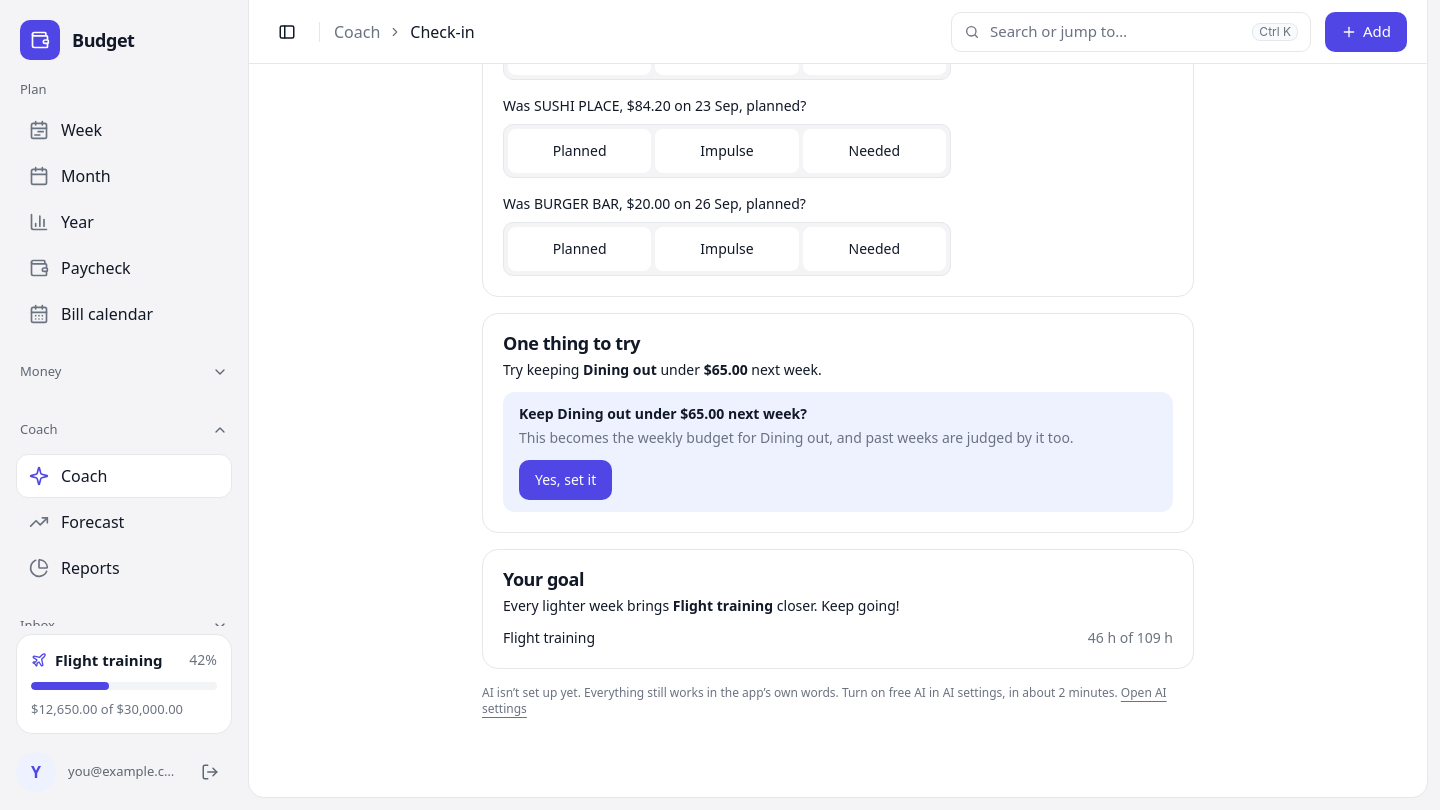
Test: the Sunday check-in › says so in one line when the weekly budget is not saved
This screenshot has width=1440, height=810.
(page scrolled)
Click the button "Yes, set it" at (566, 480), box [519, 460, 612, 500]
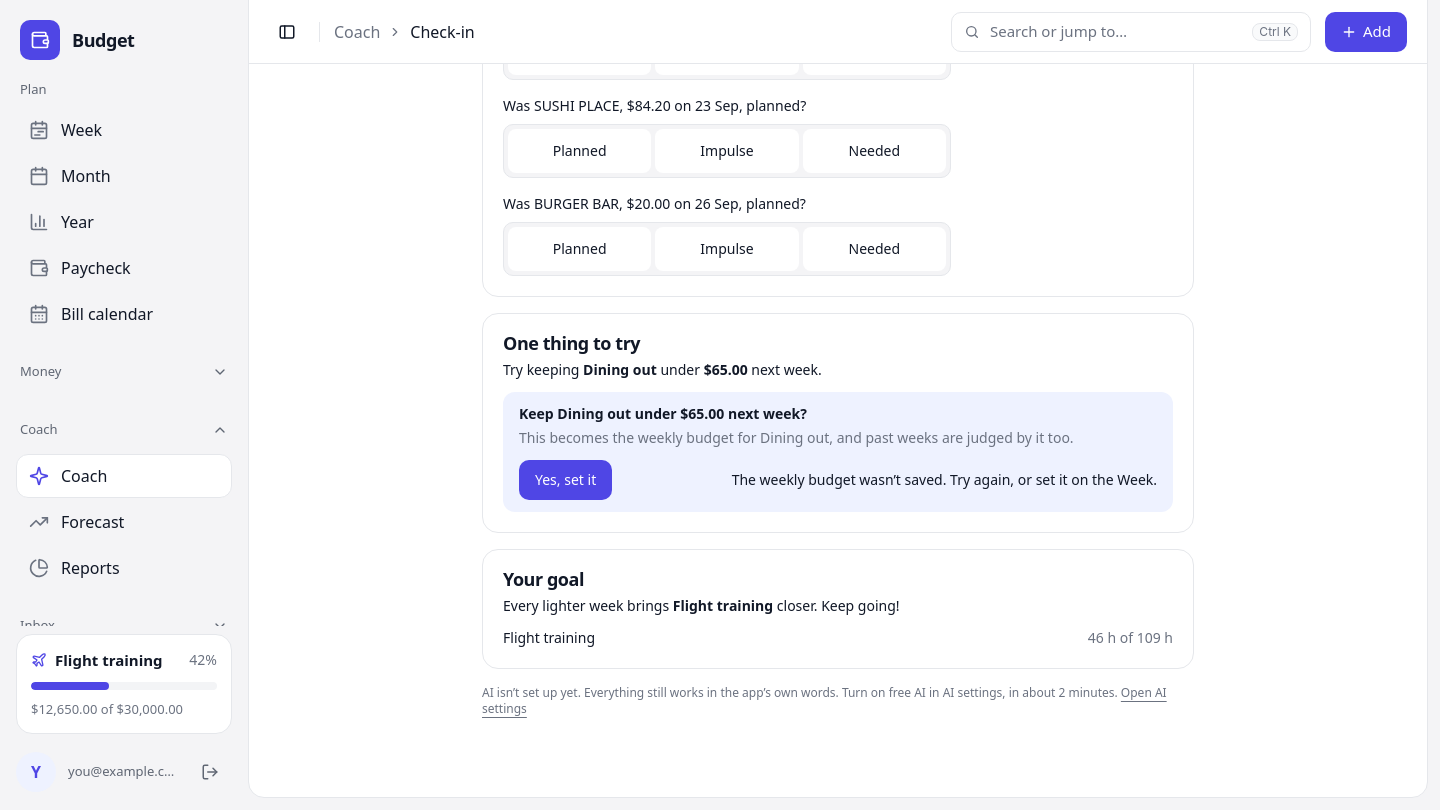
Expected: the message reads "The weekly budget wasn’t saved. Try again, or set it on the Week.", [732, 470, 1157, 489]
